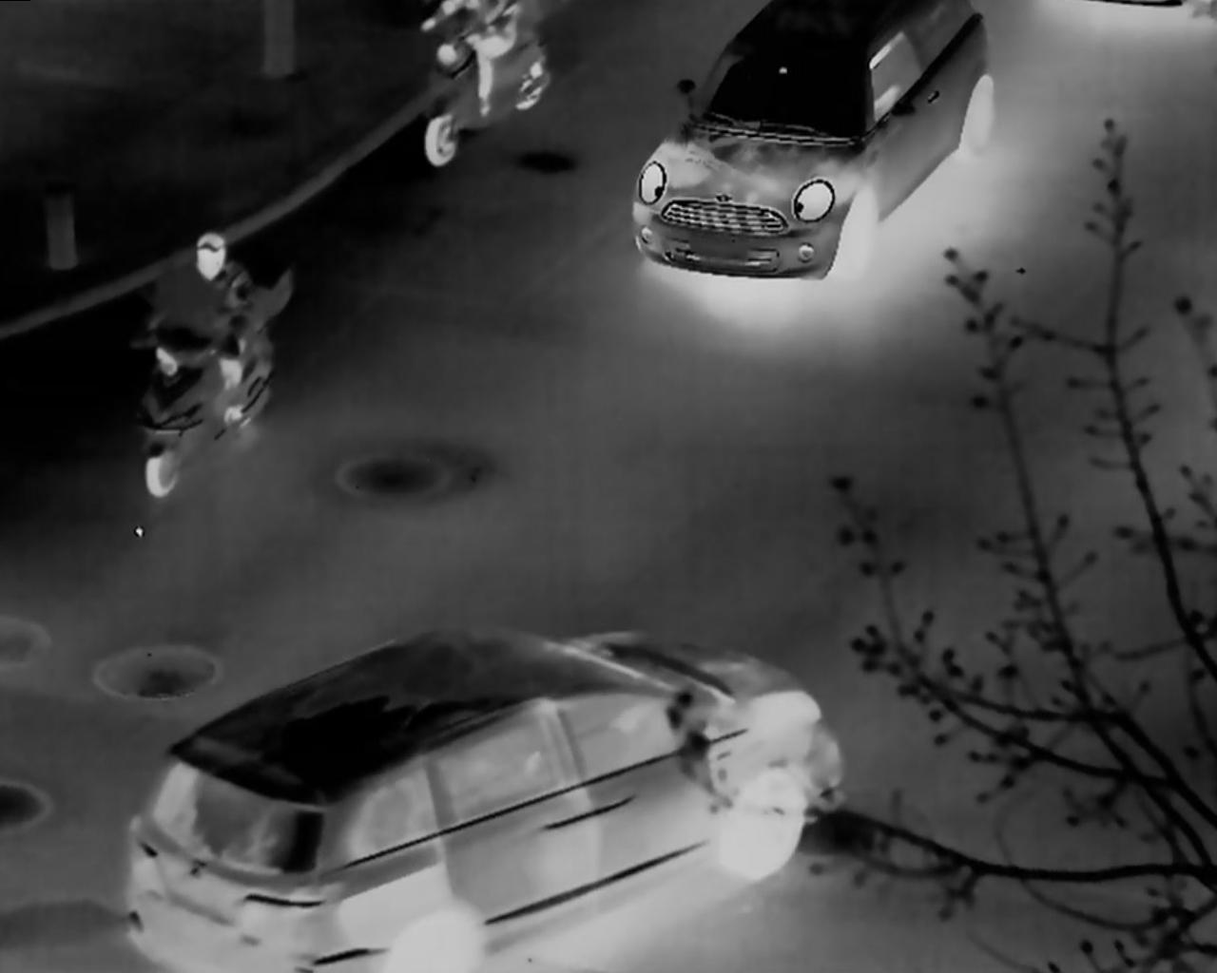person: (177, 234, 252, 425)
